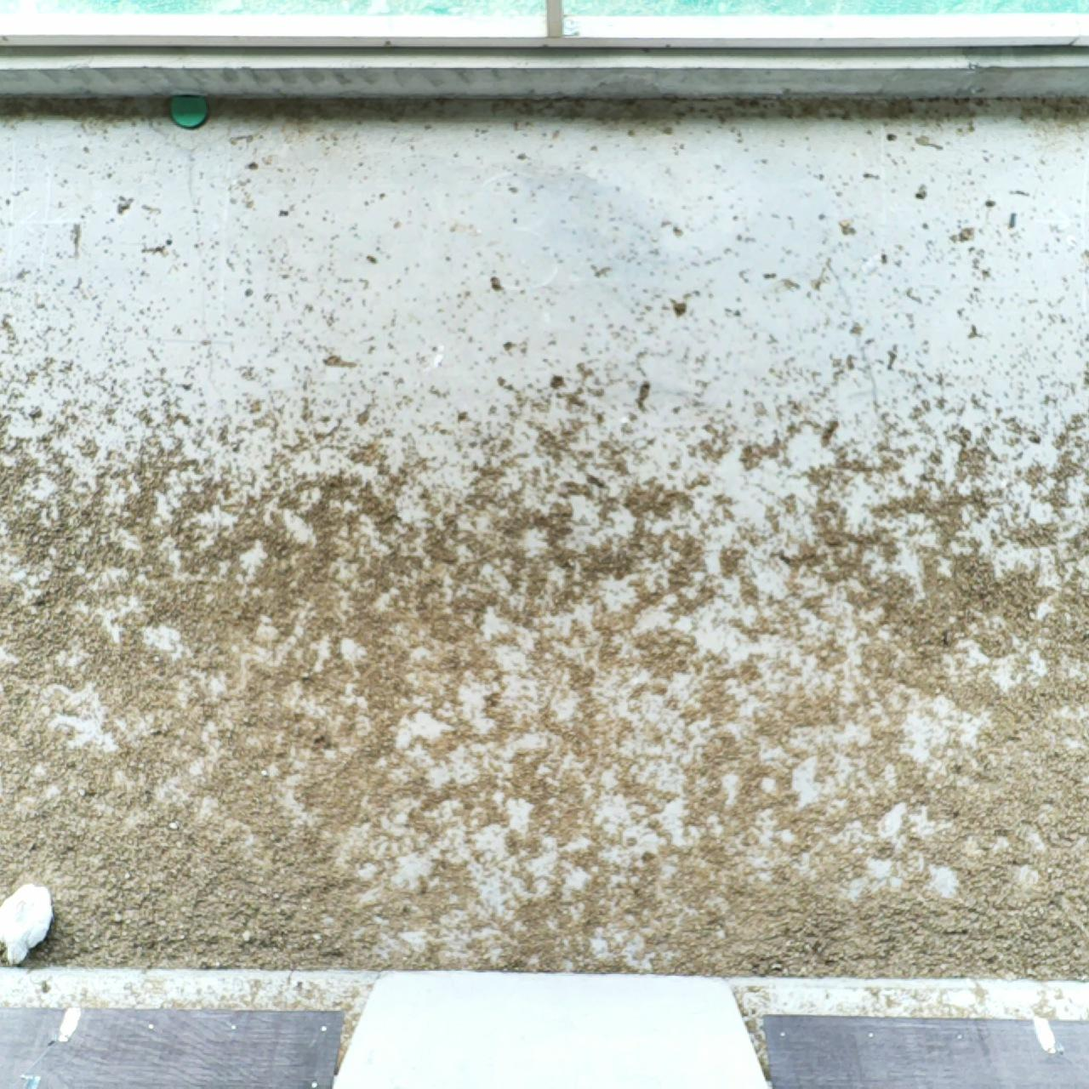chicken: (0, 875, 58, 968)
